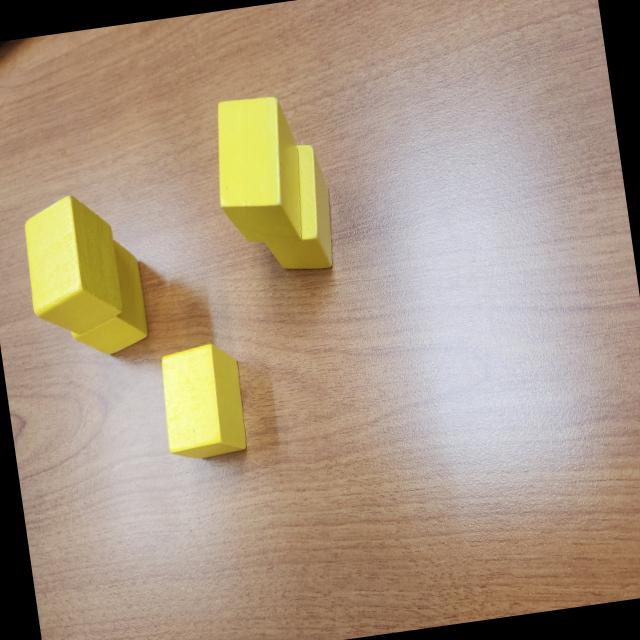yellow: (19, 188, 126, 342), (208, 93, 308, 252), (154, 340, 252, 464), (59, 236, 152, 362), (252, 144, 340, 276)
